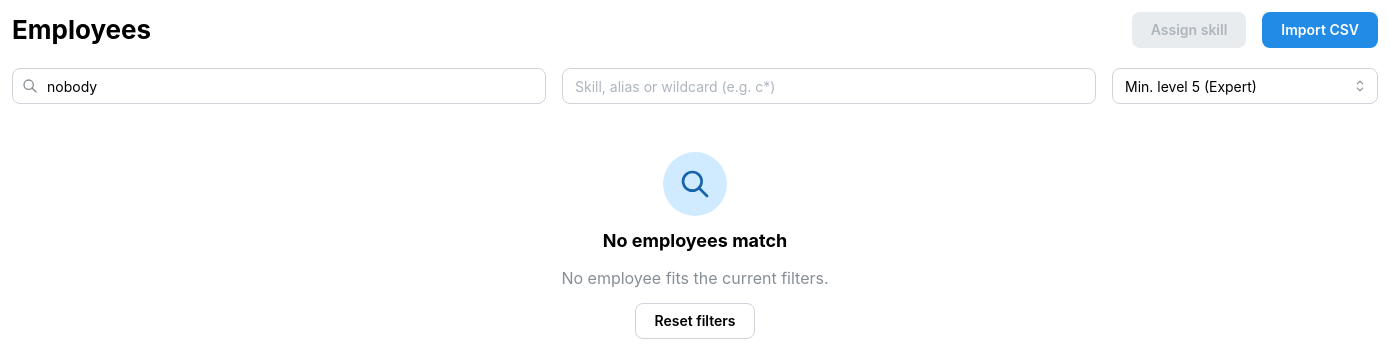
Test: EmployeeOverview › search › offers to reset the filters when nothing matches, and clears URL and fields
The image size is (1390, 356).
Expected: the heading "No employees match" is shown, [603,228,787,254]
Click the button "Reset filters" at (695, 321), box [636,303,755,339]
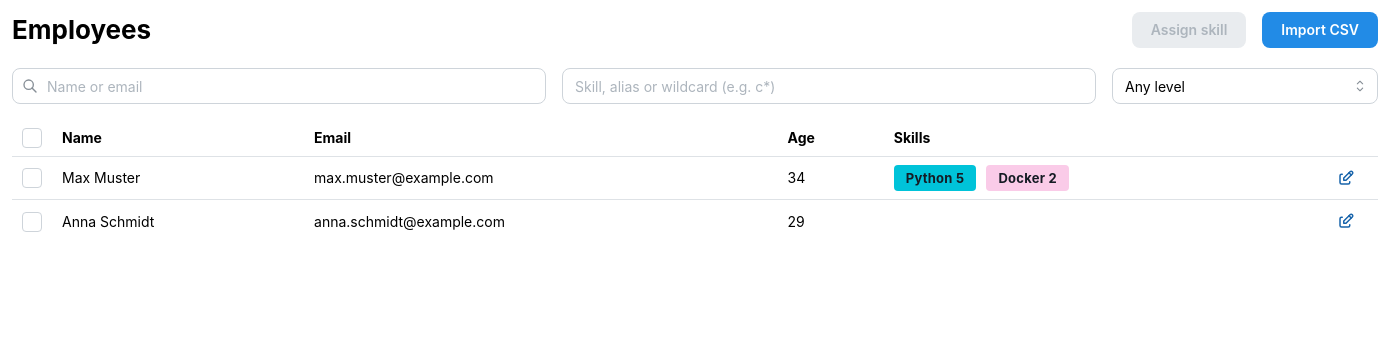
Expected: the field named "Filter by name or email" is empty, [12,68,546,104]
Expected: the dropdown named "Minimum level" holds "Any level", [1112,68,1378,104]
